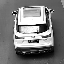motor: (11, 7, 50, 58)
